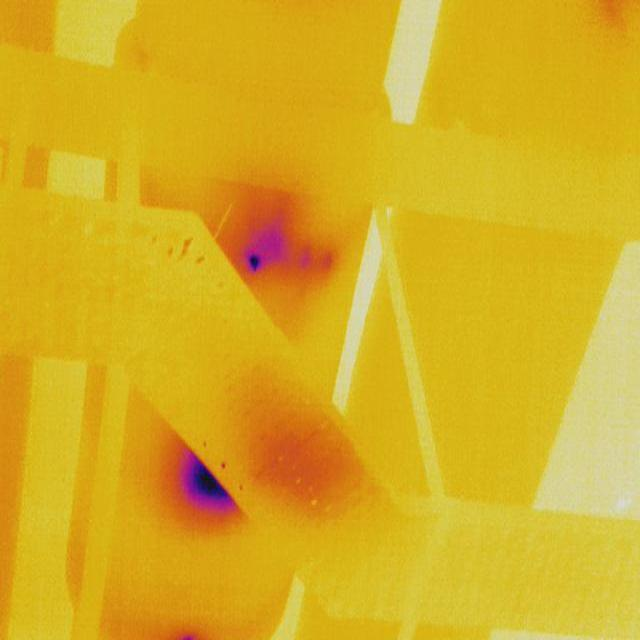leakage: (243, 422, 364, 506), (224, 206, 335, 278), (160, 450, 233, 512), (176, 627, 205, 640)
